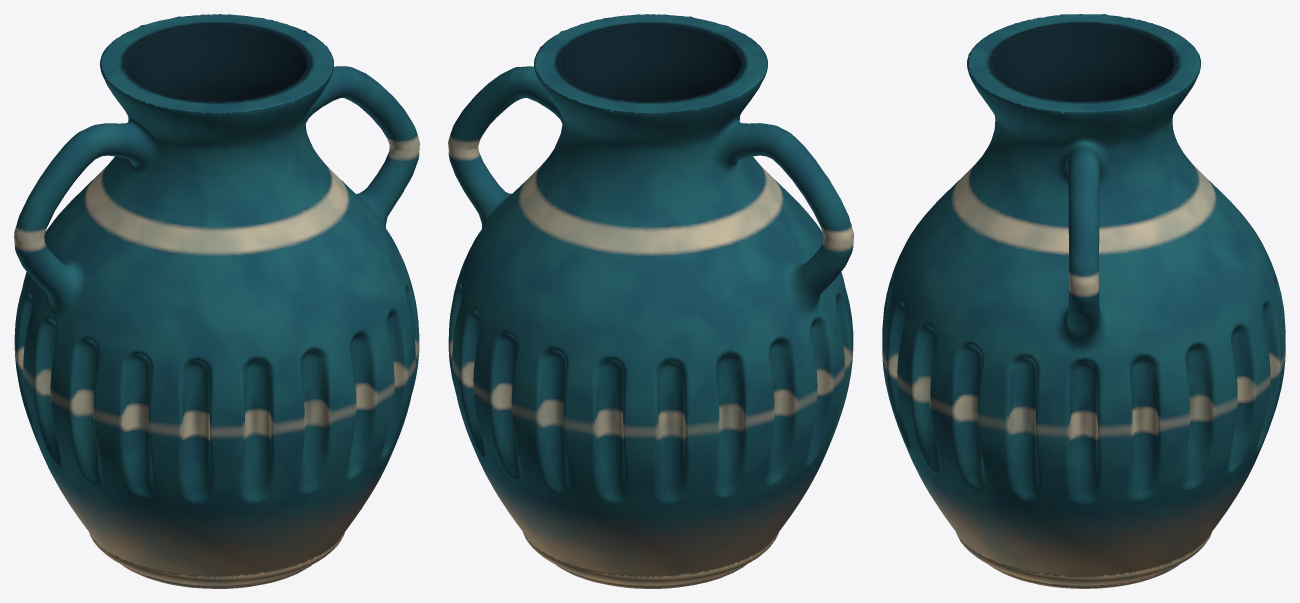
The model's file is vase.glb.
3 views of the same model, side by side, from view 1: azimuth 30°, elevation 25°; view 2: azimuth 150°, elevation 25°; view 3: azimuth 270°, elevation 25° (orthographic).
Visible parts, largest first — view 1: robot; view 2: robot; view 3: robot.
Part boxes in pixels (x1,y1,x2,y2): robot: (14,14,419,588); robot: (448,14,853,588); robot: (882,14,1285,588).
Size of the model in its own units: 1.23 by 1.42 by 1.07.
